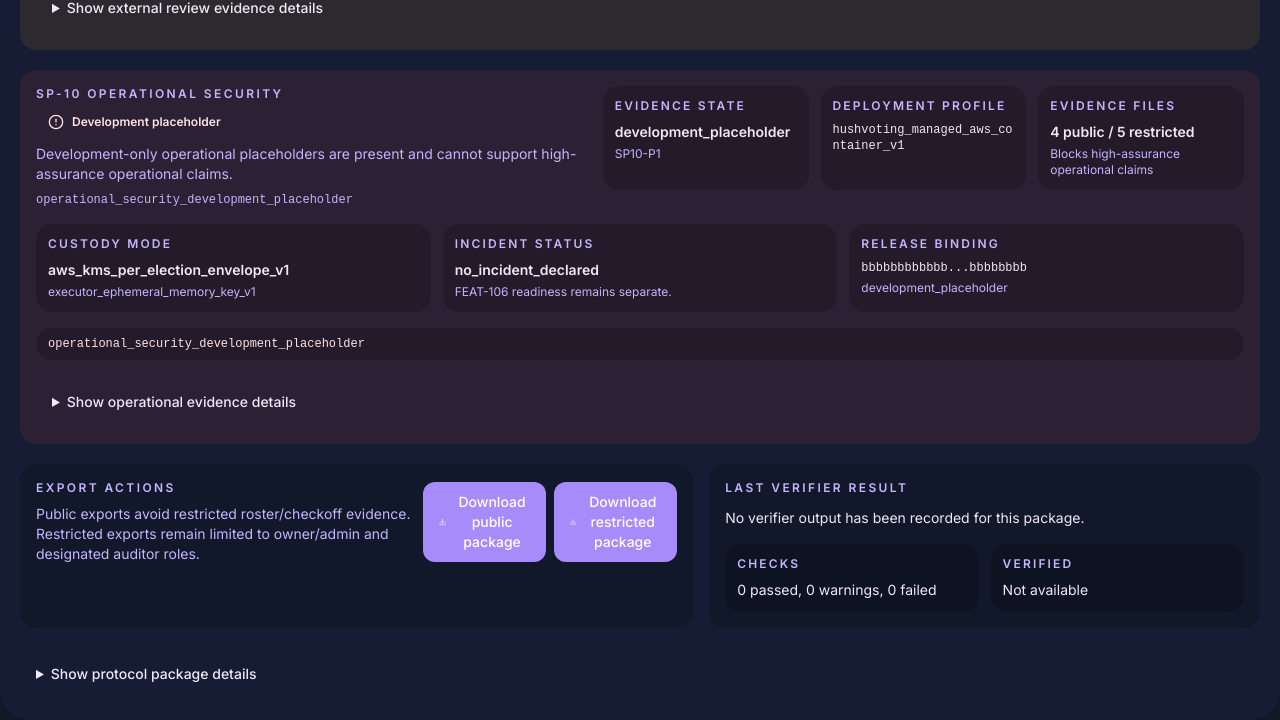
Scenario: VerificationPackageStatusSection › renders available package export status, DraftPrivate refs, and not-available verifier status
(page scrolled)
Expected: the button "Download public package" is enabled, [423,482,546,562]
Expected: the button "Download restricted package" is enabled, [554,482,677,562]
Click the heading "Show protocol package details". click: (154, 674)
box: [51,665,256,682]
(page scrolled)
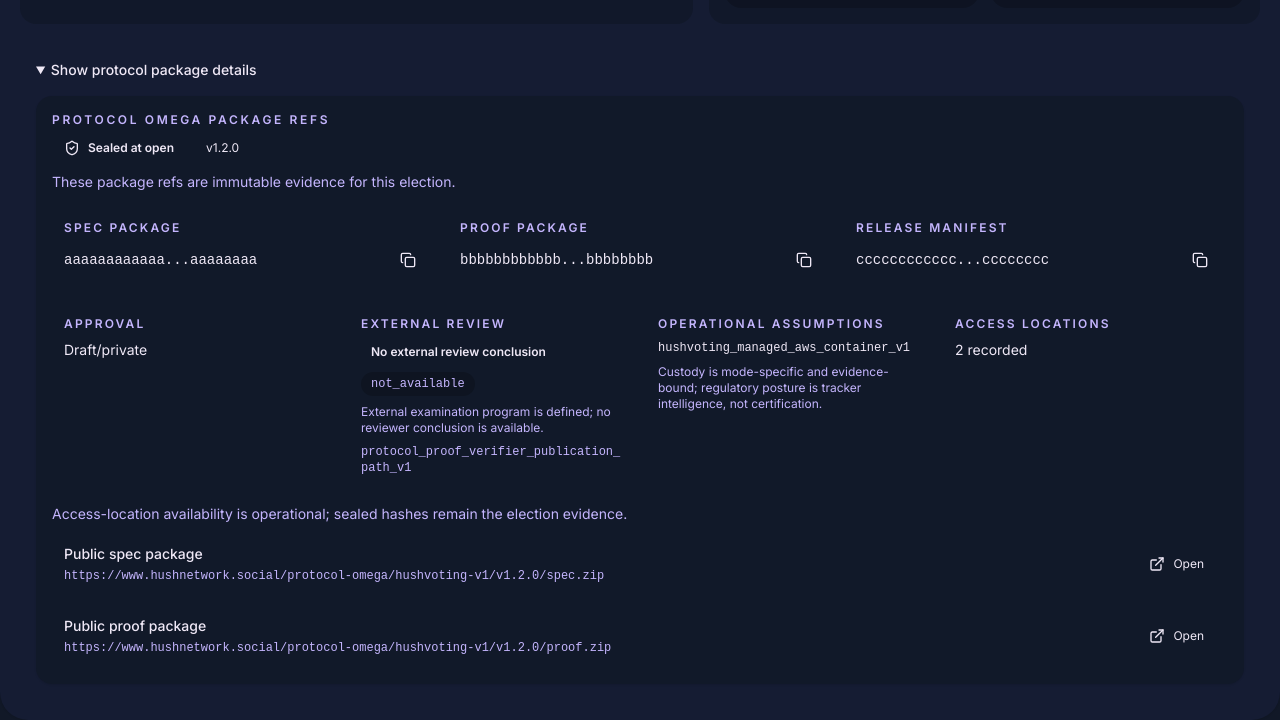
Result: the element with test id "verification-package-protocol-refs" shows "Draft/private" at [64,341,147,358]
